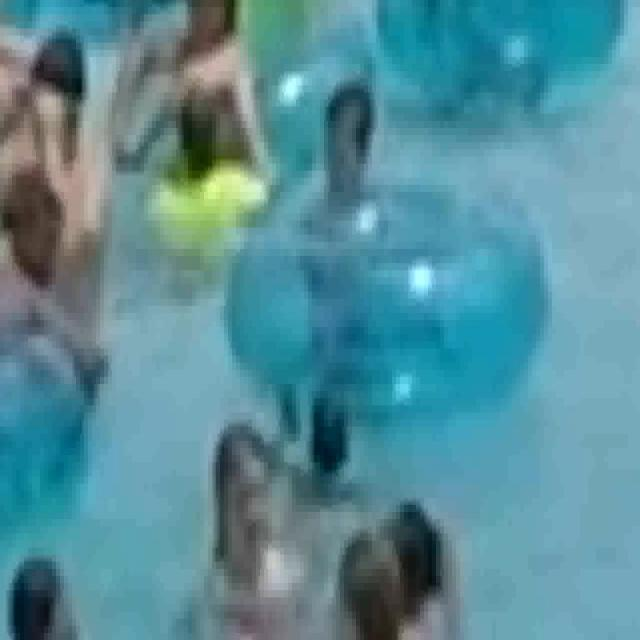Out of Water: (121, 0, 266, 165), (282, 372, 362, 488)
drowning: (308, 91, 390, 268), (208, 416, 276, 626), (0, 182, 64, 390), (352, 498, 444, 640), (0, 545, 69, 640)
